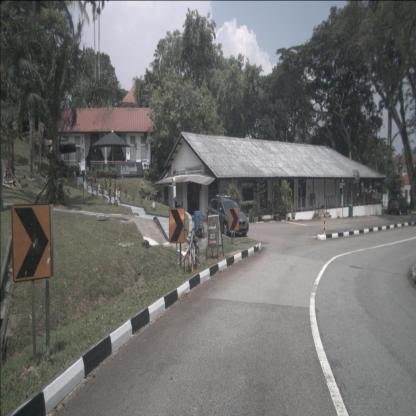vehicle-bicycle: (183, 227, 200, 275)
vehicle-car: (207, 199, 249, 236), (388, 197, 410, 215)
